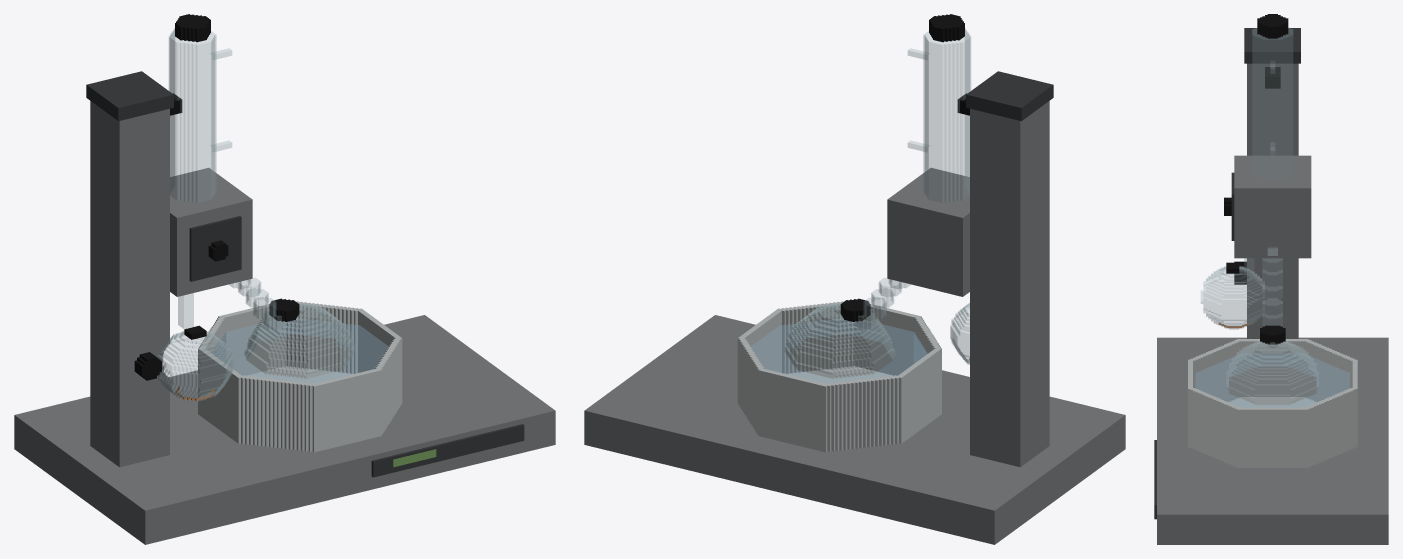
Rendered from rotovap.glb.
The picture shows the model from 3 angles, left to right: view 1: azimuth 30°, elevation 25°; view 2: azimuth 150°, elevation 25°; view 3: azimuth 270°, elevation 25°; orthographic projection. The views are drawn at different scales.
Parts seen in each view (by area): view 1: rotovap:compound; view 2: rotovap:compound; view 3: rotovap:compound.
Part boxes in pixels (left/top/right/bottom): rotovap:compound: left=14, top=14, right=555, bottom=544; rotovap:compound: left=584, top=14, right=1125, bottom=544; rotovap:compound: left=1154, top=14, right=1388, bottom=544.
Bounding box in the file's own units: 0.652 × 0.68 × 0.364.
